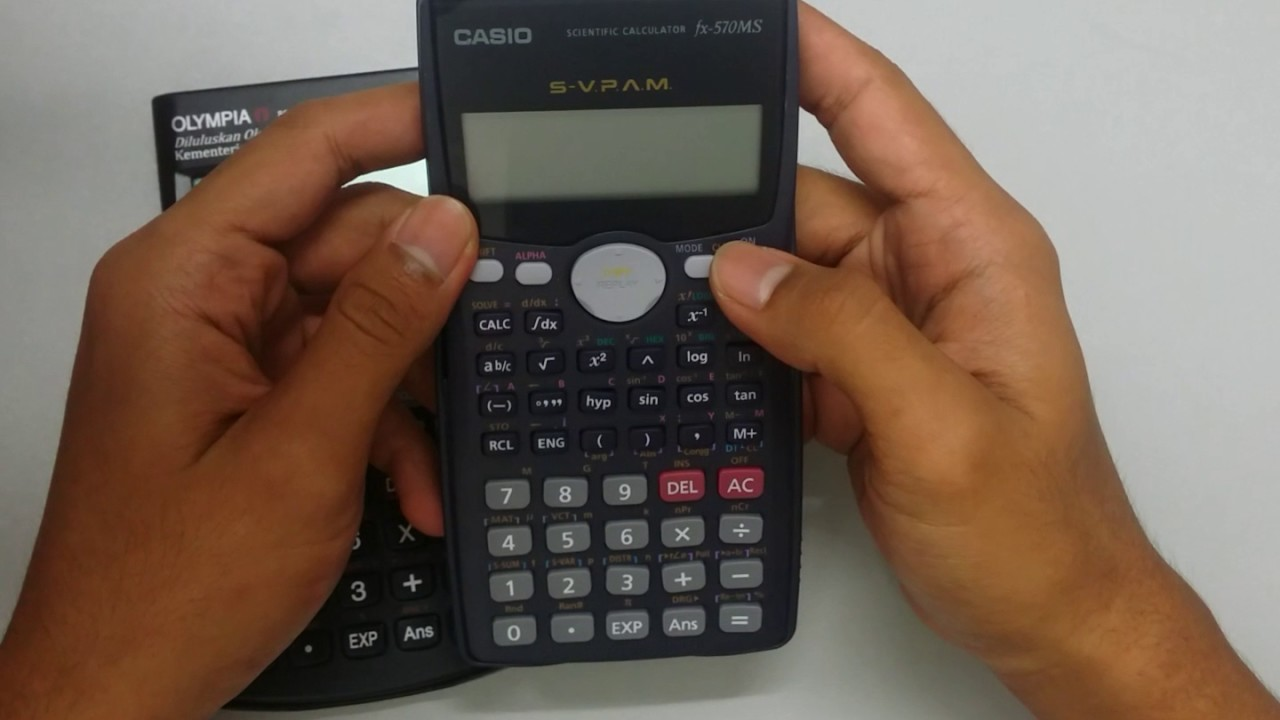Calculator: (410, 3, 820, 666)
